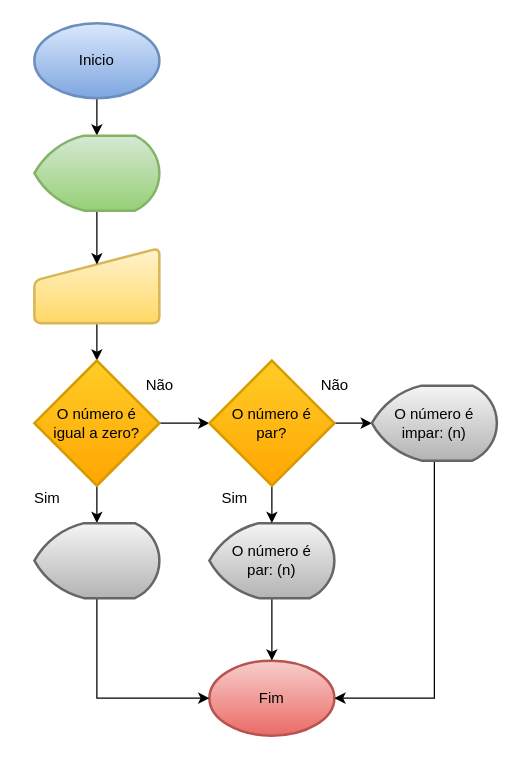
Image size: 519x758. Some labels were removed from this diagram. Here are the shapes that lost their labels. From the top down, the centre of each, then its label:
At (96,172): "Insira a quantidade de Alunos".
At (96,285): "Quantidade de alunos".
At (96,560): "O número é 0".
